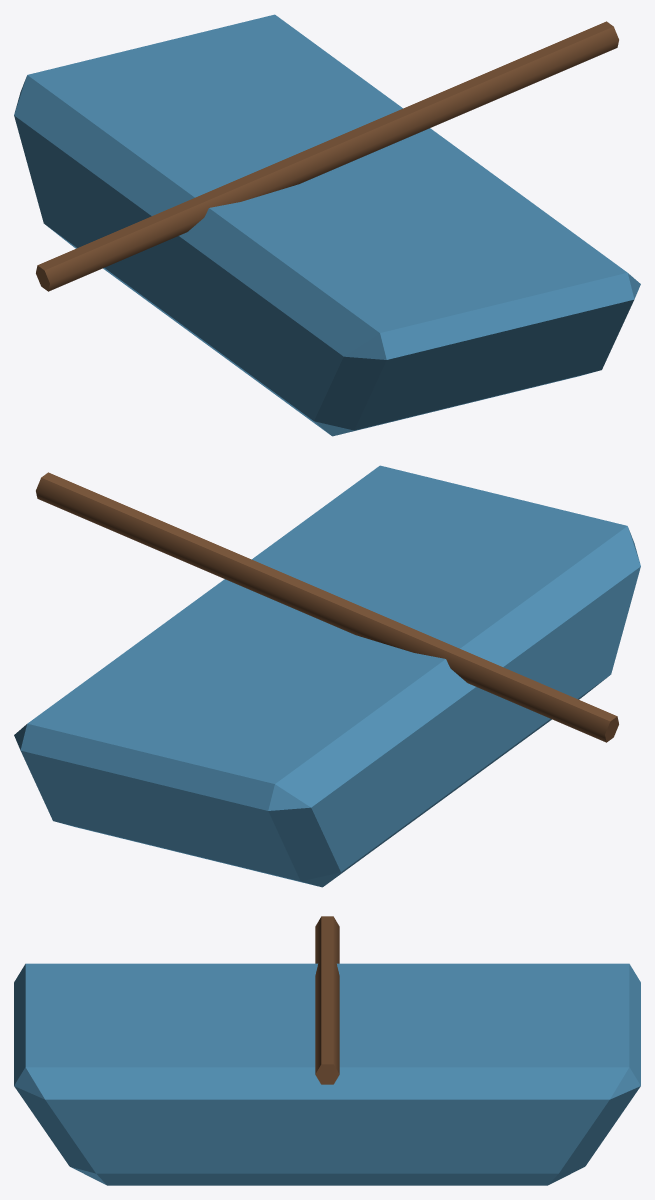
Rendered from rowboat.fbx.
3 views of the same model, one above another, from view 1: azimuth 30°, elevation 25°; view 2: azimuth 150°, elevation 25°; view 3: azimuth 270°, elevation 25° (orthographic). The views are drawn at different scales.
Parts seen in each view (by area): view 1: rowboat; view 2: rowboat; view 3: rowboat.
Boxes of the visible parts, x1=… form: rowboat: x1=14, y1=14, x2=640, y2=436; rowboat: x1=14, y1=465, x2=640, y2=887; rowboat: x1=14, y1=916, x2=640, y2=1185.
Bounding box in the file's own units: 0.6939 × 0.2536 × 0.7682.
